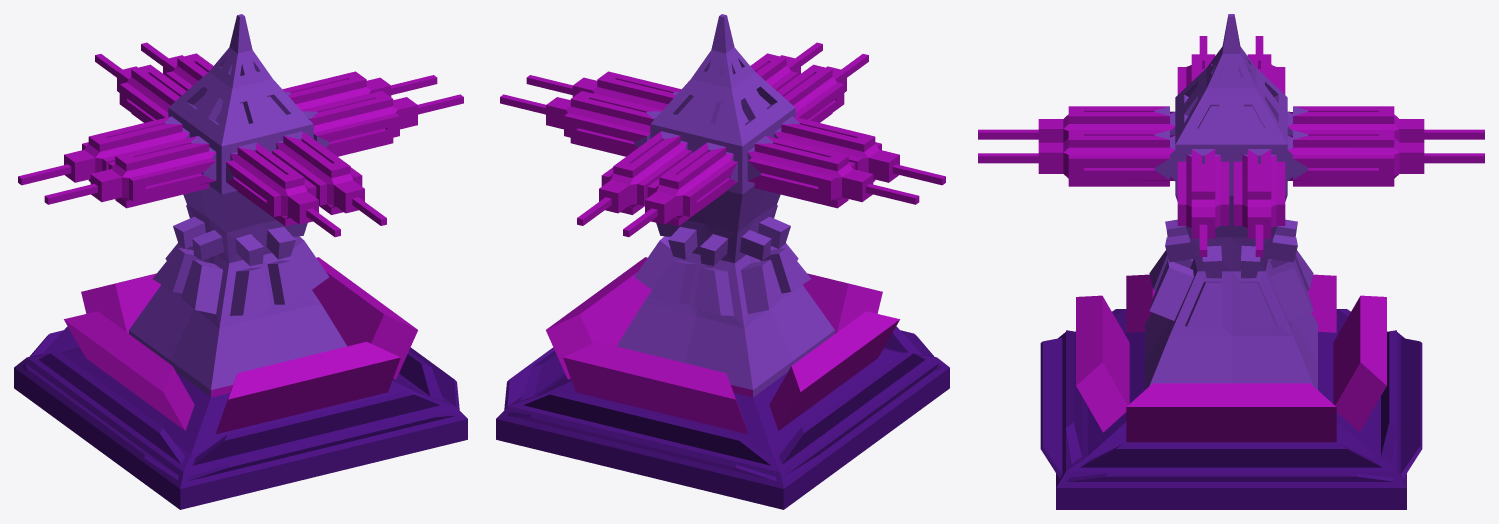
Rendered from sensora.glb.
3 renders of one model, left to right at view 1: azimuth 30°, elevation 25°; view 2: azimuth 150°, elevation 25°; view 3: azimuth 270°, elevation 25°, orthographic. The views are drawn at different scales.
Parts seen in each view (by area): view 1: Cube; view 2: Cube; view 3: Cube.
Part boxes in pixels (x1,y1,x2,y2): Cube: (14,14,467,509); Cube: (496,14,949,509); Cube: (978,14,1484,509).
Bounding box in the file's own units: 5.85 × 5.36 × 5.85.
1 material, 1 textured.
